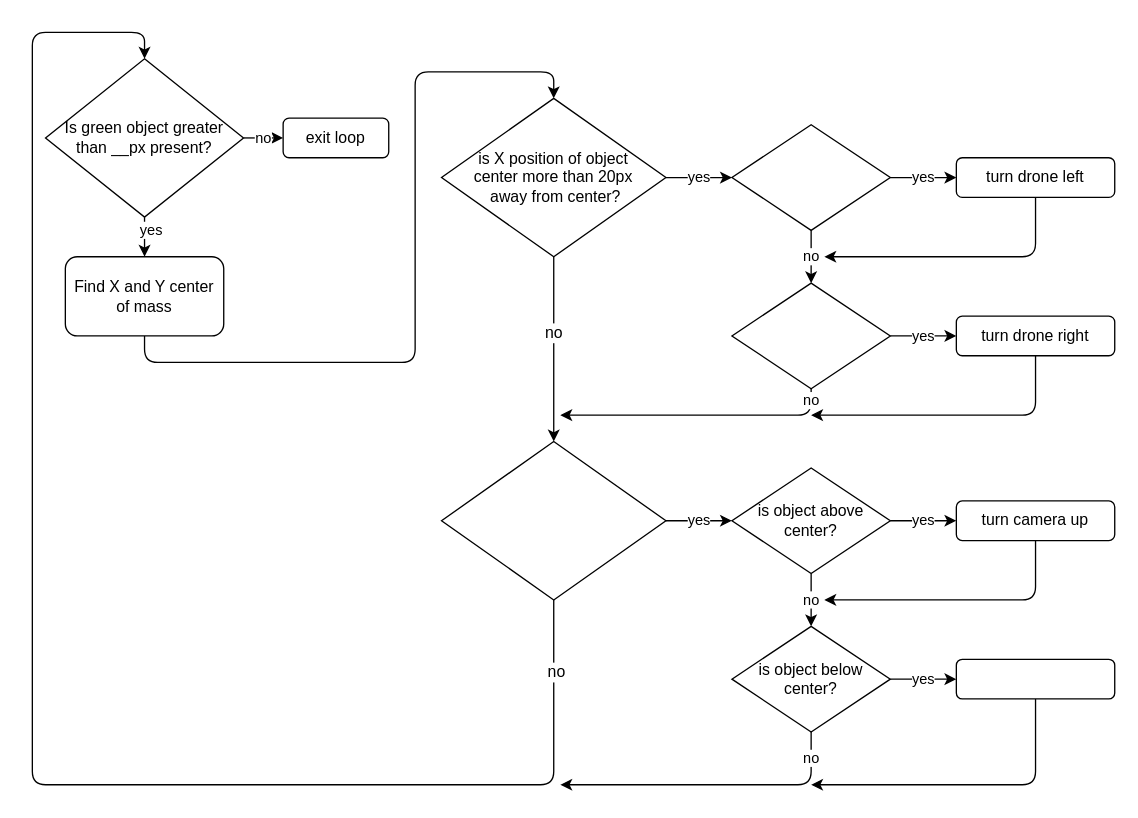
Some shapes in this 1138 by 818 pixel diagram are drawn without their labels. Here are the shapes that lost their labels. From the top down, the centre of each, then its label:
(810,176): is object left of center?
(810,335): is object right of center?
(553,520): is Y position of object center more than 20px away from center?
(1035,678): turn camera down
